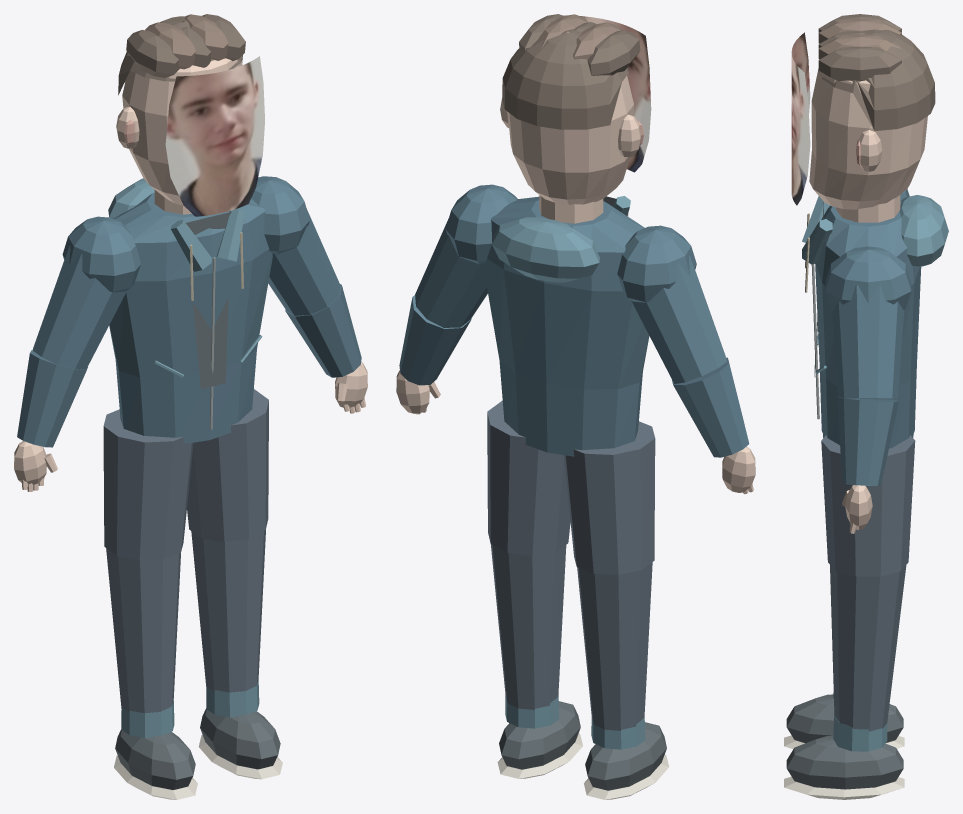
File: personagem-02.glb
3 renders of one model, left to right at view 1: azimuth 30°, elevation 25°; view 2: azimuth 150°, elevation 25°; view 3: azimuth 270°, elevation 25°, orthographic. The views are drawn at different scales.
Visible parts, largest first — view 1: Tronco, Rosto fotografico, Coxa -1, Calca inferior -1, Calca inferior 1, Coxa 1, Manga superior -1, Rosto, Manga superior 1, Manga inferior -1, Ombro -1, Tenis -1 (+18 smaller); view 2: Tronco, Coxa -1, Calca inferior -1, Calca inferior 1, Coxa 1, Cabelo base, Rosto, Manga superior -1, Capuz dobrado, Manga superior 1, Manga inferior -1, Ombro -1 (+16 smaller); view 3: Calca inferior 1, Rosto, Coxa 1, Tronco, Manga superior 1, Cabelo base, Tenis 1, Manga inferior 1, Ombro 1, Rosto fotografico, Capuz dobrado, Tenis -1 (+13 smaller).
Boxes of the visible parts, x1,y1,x2,y2 form: Tronco: (109,192,272,444); Rosto fotografico: (165,56,264,216); Coxa -1: (103,409,193,560); Calca inferior -1: (106,548,180,713); Calca inferior 1: (191,530,265,692); Coxa 1: (187,389,268,542); Manga superior -1: (32,245,126,369); Rosto: (122,58,242,205); Manga superior 1: (268,210,339,315); Manga inferior -1: (17,350,87,447); Ombro -1: (62,216,140,292); Tenis -1: (115,729,195,789); Tronco: (483,196,649,456); Coxa -1: (564,421,655,574); Calca inferior -1: (577,562,652,730); Calca inferior 1: (490,544,566,709); Coxa 1: (487,400,570,556); Cabelo base: (502,28,628,129); Rosto: (507,75,633,204); Manga superior -1: (631,255,727,383); Capuz dobrado: (492,217,599,282); Manga superior 1: (415,218,487,327); Manga inferior -1: (671,357,749,457); Ombro -1: (617,225,696,302); Calca inferior 1: (830,565,906,731); Rosto: (809,68,927,209); Coxa 1: (821,435,915,576); Tronco: (815,198,921,448); Manga superior 1: (832,285,904,399); Cabelo base: (819,29,935,130); Tenis 1: (786,735,903,789); Manga inferior 1: (837,396,898,485); Ombro 1: (825,246,911,309); Rosto fotografico: (791,32,810,205); Capuz dobrado: (899,195,948,267); Tenis -1: (786,694,903,743).
Size of the model in its own units: 0.9169 by 1.85 by 0.372.
13 materials, 1 textured.
